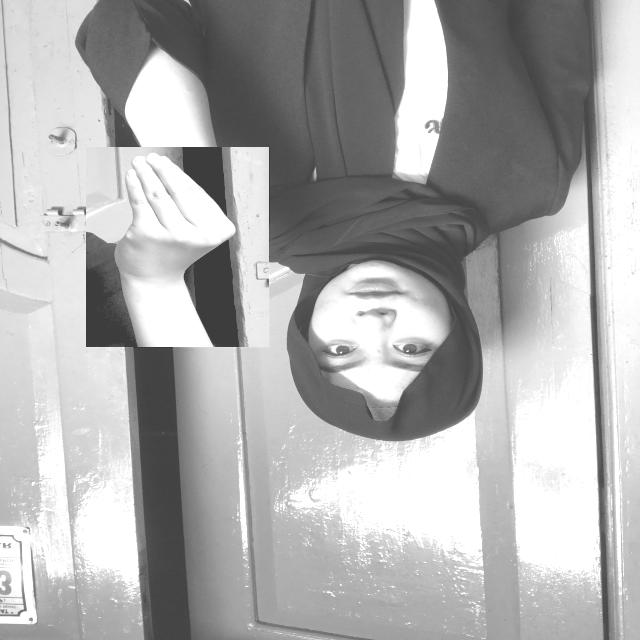kapan: (86, 147, 270, 348)
